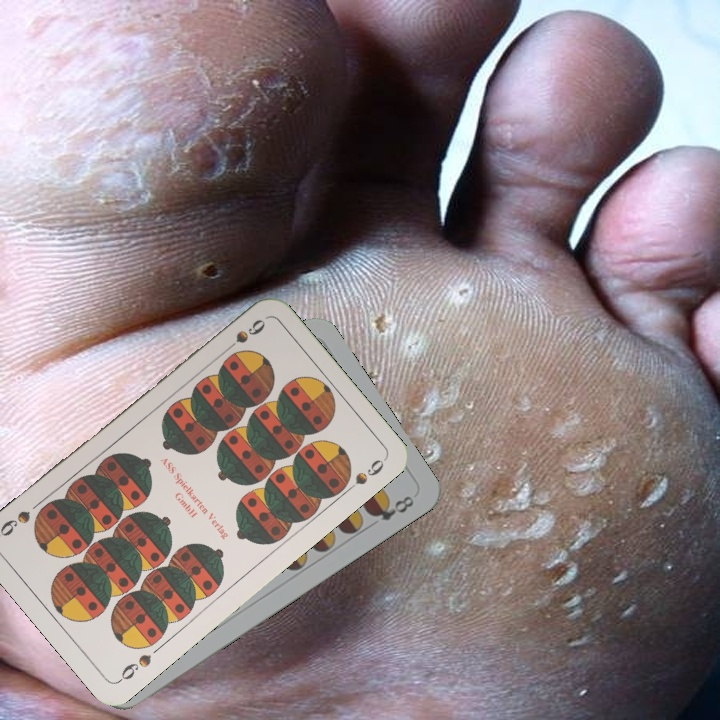S9: (218, 315, 269, 357), (114, 650, 154, 685)
